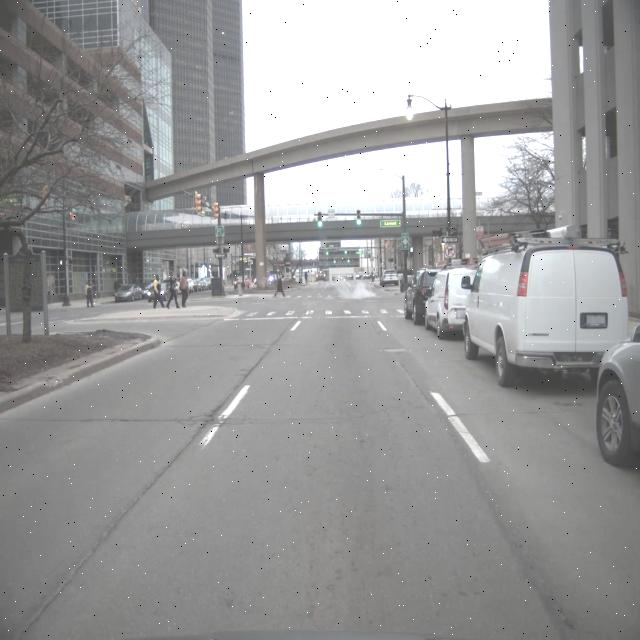humans: (167, 270, 180, 308), (153, 273, 164, 308), (181, 270, 190, 309), (276, 274, 286, 298), (305, 270, 308, 283)
